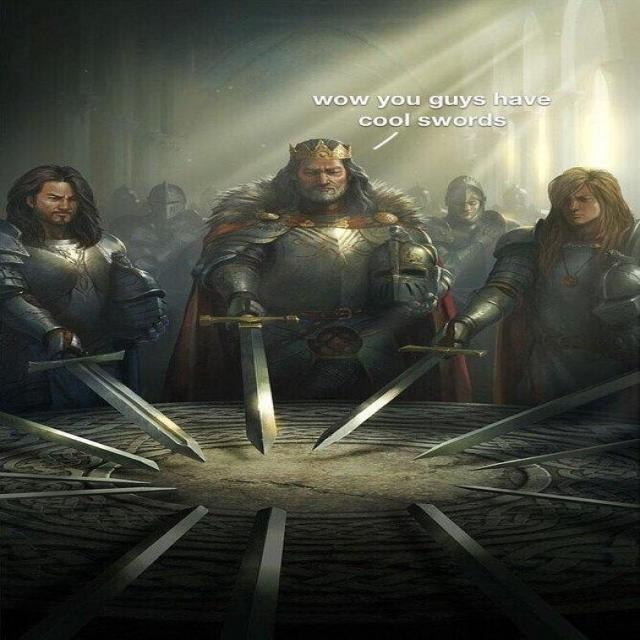sword: (29, 346, 210, 461), (316, 327, 488, 448), (413, 367, 640, 458), (199, 305, 305, 451)
